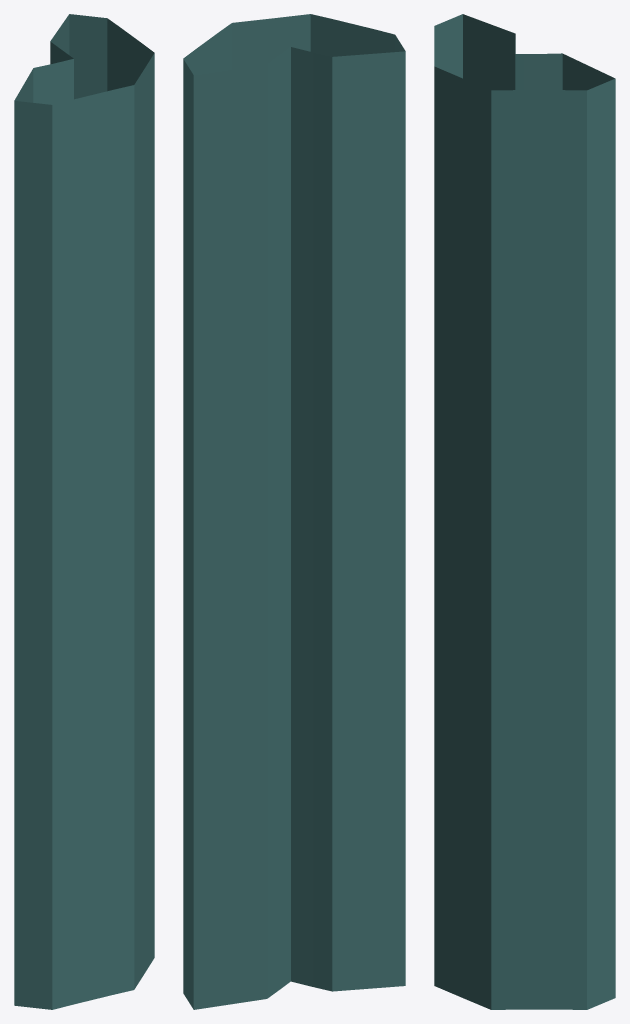
File: Arch_OutsideCorner_Post.fbx
3 renders of one model, left to right at view 1: azimuth 30°, elevation 25°; view 2: azimuth 150°, elevation 25°; view 3: azimuth 270°, elevation 25°, orthographic. The views are drawn at different scales.
Visible parts, largest first — view 1: Arch_OutsideCorner_Post; view 2: Arch_OutsideCorner_Post; view 3: Arch_OutsideCorner_Post.
Boxes of the visible parts, x1,y1,x2,y2 form: Arch_OutsideCorner_Post: [14, 14, 154, 1009]; Arch_OutsideCorner_Post: [183, 14, 405, 1009]; Arch_OutsideCorner_Post: [434, 14, 615, 1009].
Size of the model in its own units: 71.2 by 400 by 71.2.
